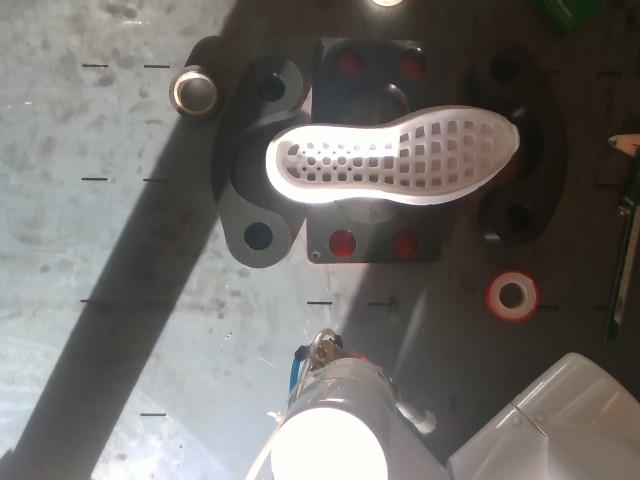shoes: (275, 109, 519, 197)
